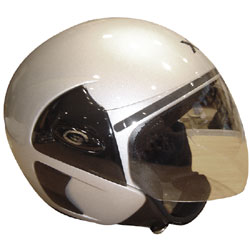helmet: (10, 19, 245, 231)
